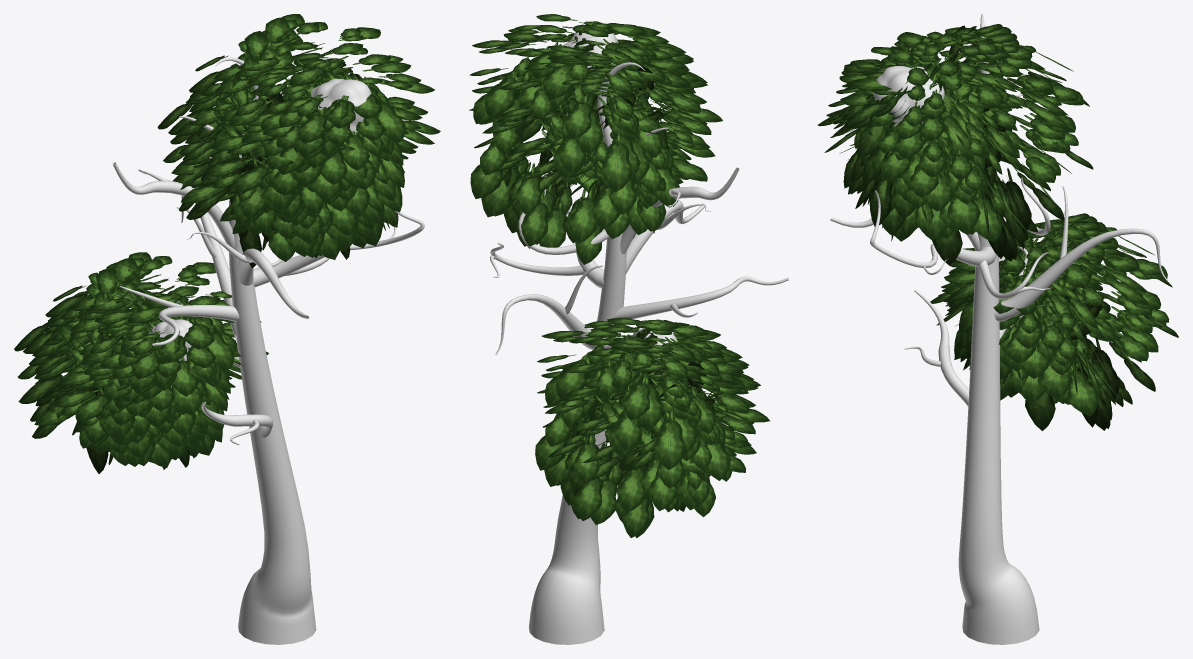
3 renders of one model, left to right at view 1: azimuth 30°, elevation 25°; view 2: azimuth 150°, elevation 25°; view 3: azimuth 270°, elevation 25°, orthographic. The views are drawn at different scales.
Visible parts, largest first — view 1: leaveless_tree_1, Cube.018, Cube.018|Plane.001|Dupli|557, Cube.018|Plane.001|Dupli|661, Cube.019|Plane.001|Dupli|557, Cube.018|Plane.001|Dupli|548, Cube.018|Plane.001|Dupli|605, Cube.019|Plane.001|Dupli|9; view 2: leaveless_tree_1, Cube.019|Plane.001|Dupli|961, Cube.018|Plane.001|Dupli|961, Cube.018|Plane.001|Dupli|91, Cube.019|Plane.001|Dupli|91, Cube.018|Plane.001|Dupli|316, Cube.019|Plane.001|Dupli|316, Cube.018|Plane.001|Dupli|191, Cube.018|Plane.001|Dupli|972, Cube.019|Plane.001|Dupli|972, Cube.018|Plane.001|Dupli|67, Cube.018|Plane.001|Dupli|181 (+30 smaller); view 3: leaveless_tree_1, Cube.018, Cube.019|Plane.001|Dupli|319, Cube.018|Plane.001|Dupli|319, Cube.018|Plane.001|Dupli|430, Cube.019|Plane.001|Dupli|430, Cube.019|Plane.001|Dupli|220, Cube.018|Plane.001|Dupli|736, Cube.018|Plane.001|Dupli|220, Cube.018|Plane.001|Dupli|265, Cube.018|Plane.001|Dupli|403, Cube.018|Plane.001|Dupli|470 (+7 smaller).
Part boxes in pixels (x1,y1,x2,y2): leaveless_tree_1: (112,57,424,644); Cube.018: (308,78,371,147); Cube.018|Plane.001|Dupli|557: (376,102,405,142); Cube.018|Plane.001|Dupli|661: (297,106,327,143); Cube.019|Plane.001|Dupli|557: (204,332,234,370); Cube.018|Plane.001|Dupli|548: (342,131,369,170); Cube.018|Plane.001|Dupli|605: (321,151,347,184); Cube.019|Plane.001|Dupli|9: (18,372,73,403); leaveless_tree_1: (490,62,788,644); Cube.019|Plane.001|Dupli|961: (654,407,685,469); Cube.018|Plane.001|Dupli|961: (601,129,632,192); Cube.018|Plane.001|Dupli|91: (568,186,596,243); Cube.019|Plane.001|Dupli|91: (617,467,645,512); Cube.018|Plane.001|Dupli|316: (521,190,548,246); Cube.019|Plane.001|Dupli|316: (575,477,602,519); Cube.018|Plane.001|Dupli|191: (515,163,541,214); Cube.018|Plane.001|Dupli|972: (564,93,591,139); Cube.019|Plane.001|Dupli|972: (622,373,650,420); Cube.018|Plane.001|Dupli|67: (538,201,566,254); Cube.018|Plane.001|Dupli|181: (481,167,519,217); leaveless_tree_1: (830,14,1167,644); Cube.018: (873,66,944,126); Cube.019|Plane.001|Dupli|319: (1067,365,1098,416); Cube.018|Plane.001|Dupli|319: (973,192,1002,242); Cube.018|Plane.001|Dupli|430: (947,195,980,232); Cube.019|Plane.001|Dupli|430: (1039,365,1072,398); Cube.019|Plane.001|Dupli|220: (1025,392,1055,430); Cube.018|Plane.001|Dupli|736: (857,121,894,157); Cube.018|Plane.001|Dupli|220: (932,230,962,265); Cube.018|Plane.001|Dupli|265: (942,113,974,161); Cube.018|Plane.001|Dupli|403: (908,164,938,197); Cube.018|Plane.001|Dupli|470: (922,175,953,211).
Bounding box in the file's own units: 289 × 493 × 271.
